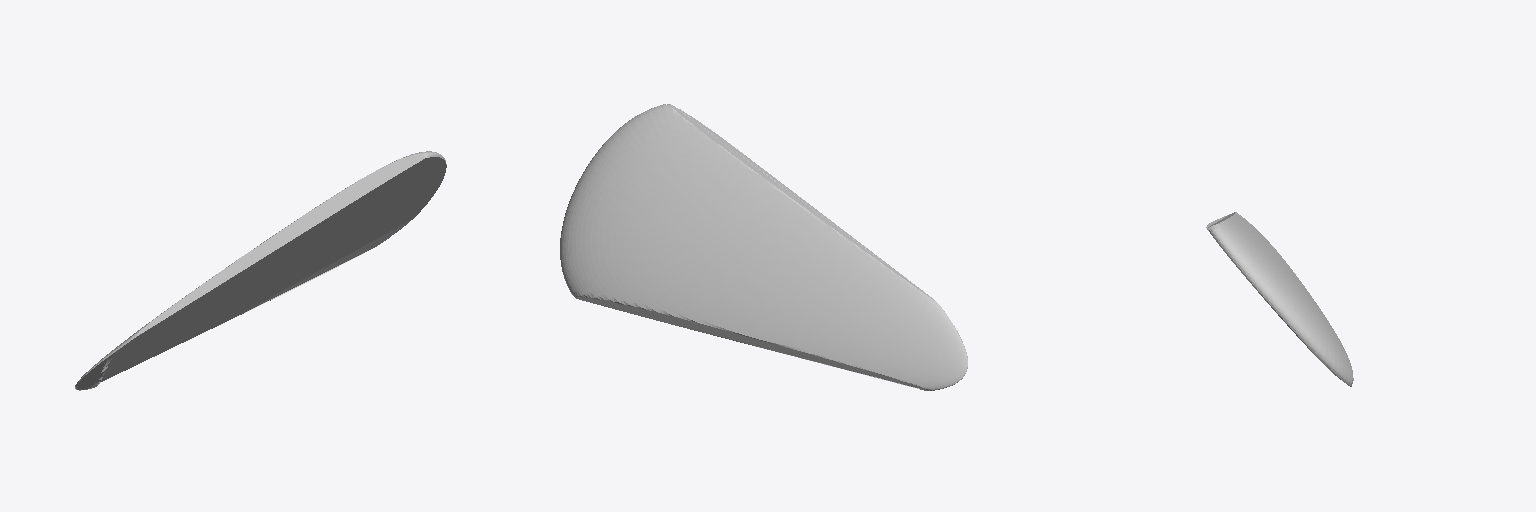
The model's file is SubTool-2-8090894.OBJ.
The picture shows the model from 3 angles: view 1: azimuth 30°, elevation 25°; view 2: azimuth 150°, elevation 25°; view 3: azimuth 270°, elevation 25°; orthographic projection.
Parts seen in each view (by area): view 1: Group21714; view 2: Group21714; view 3: Group21714.
Part boxes in pixels (x1,y1,x2,y2): Group21714: (75, 151, 446, 390); Group21714: (560, 104, 967, 390); Group21714: (1206, 212, 1353, 386).
Size of the model in its own units: 1.47 by 0.6981 by 0.4935.